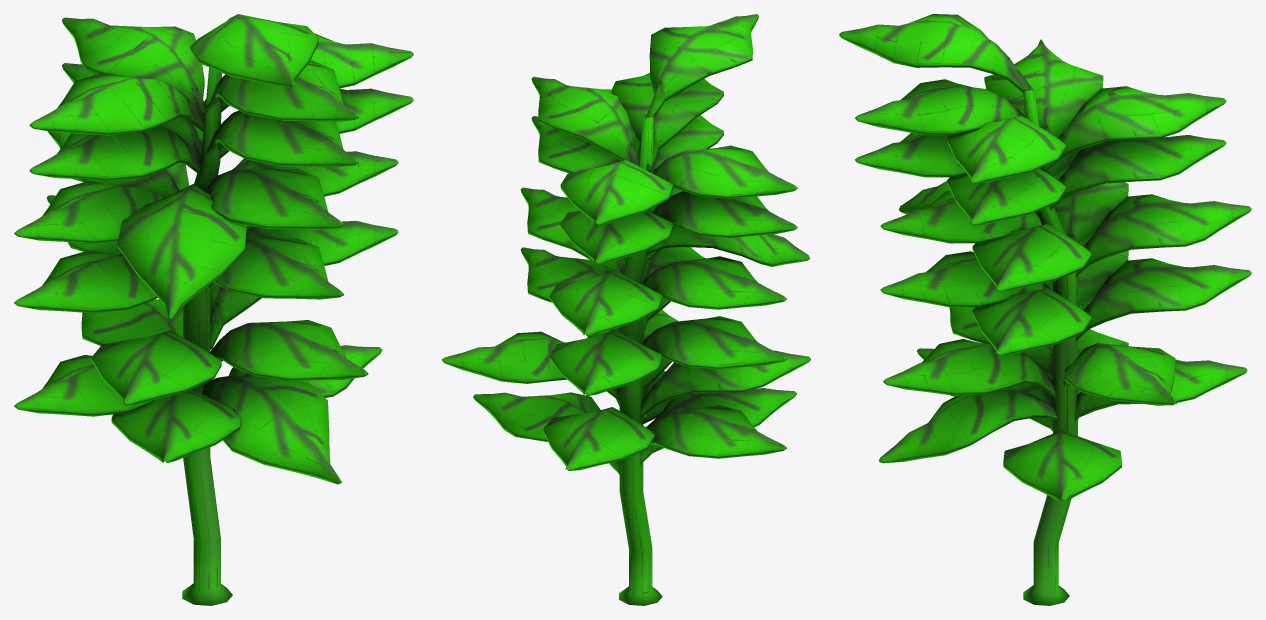
The model's file is tanaman1.fbx.
3 renders of one model, left to right at view 1: azimuth 30°, elevation 25°; view 2: azimuth 150°, elevation 25°; view 3: azimuth 270°, elevation 25°, orthographic. The views are drawn at different scales.
Visible parts, largest first — view 1: Cylinder; view 2: Cylinder; view 3: Cylinder.
Part boxes in pixels (left/top/right/bottom): Cylinder: left=14, top=14, right=413, bottom=605; Cylinder: left=442, top=14, right=810, bottom=605; Cylinder: left=839, top=14, right=1251, bottom=605.
Size of the model in its own units: 937 by 1517 by 997.
1 material, 1 textured.
